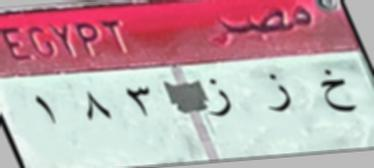1: (32, 90, 60, 135)
3: (121, 82, 157, 126)
8: (80, 88, 114, 134)
khaa: (316, 66, 359, 118)
zay: (200, 76, 238, 124), (262, 70, 296, 123)
